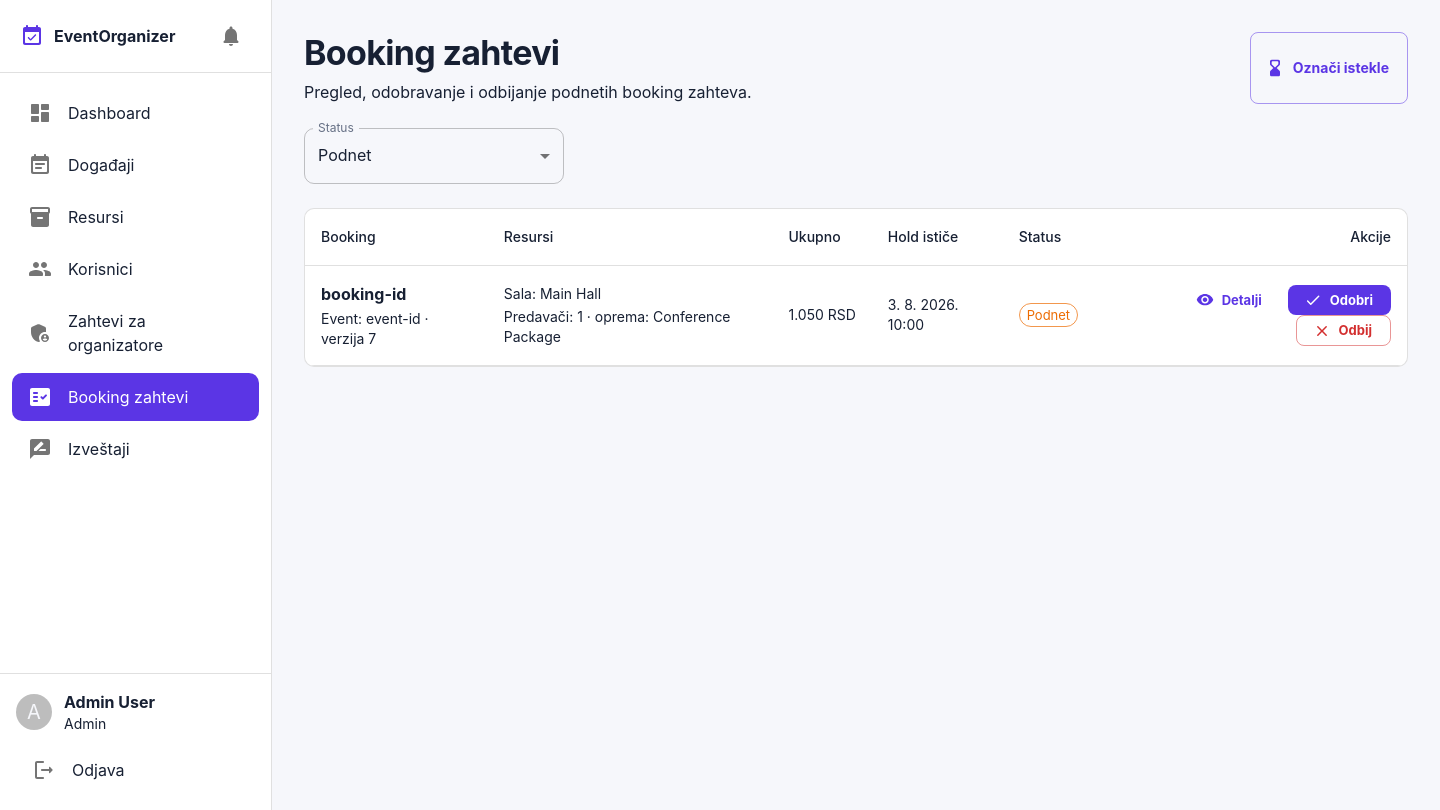
App › loads admin booking approvals and shows booking details
Check: the heading "Booking zahtevi" is shown, box [304, 32, 559, 73]
Check: the text "Sala: Main Hall" is shown, box [504, 285, 601, 302]
Click the button "Detalji": [1230, 300] box [1180, 285, 1280, 315]
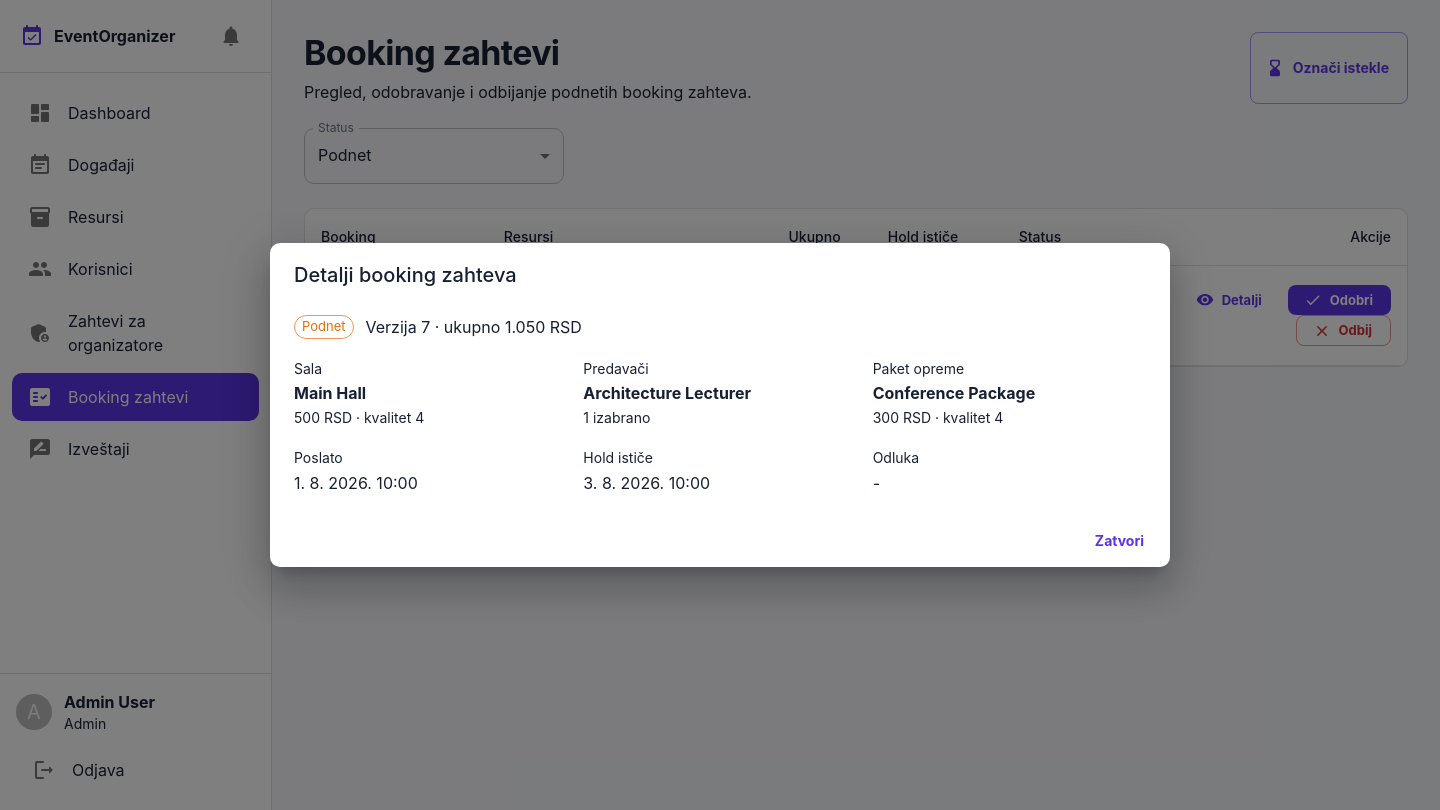
Check: the heading "Detalji booking zahteva" is shown, box [294, 262, 517, 286]
Check: the text "Architecture Lecturer" is shown, box [583, 383, 751, 403]
